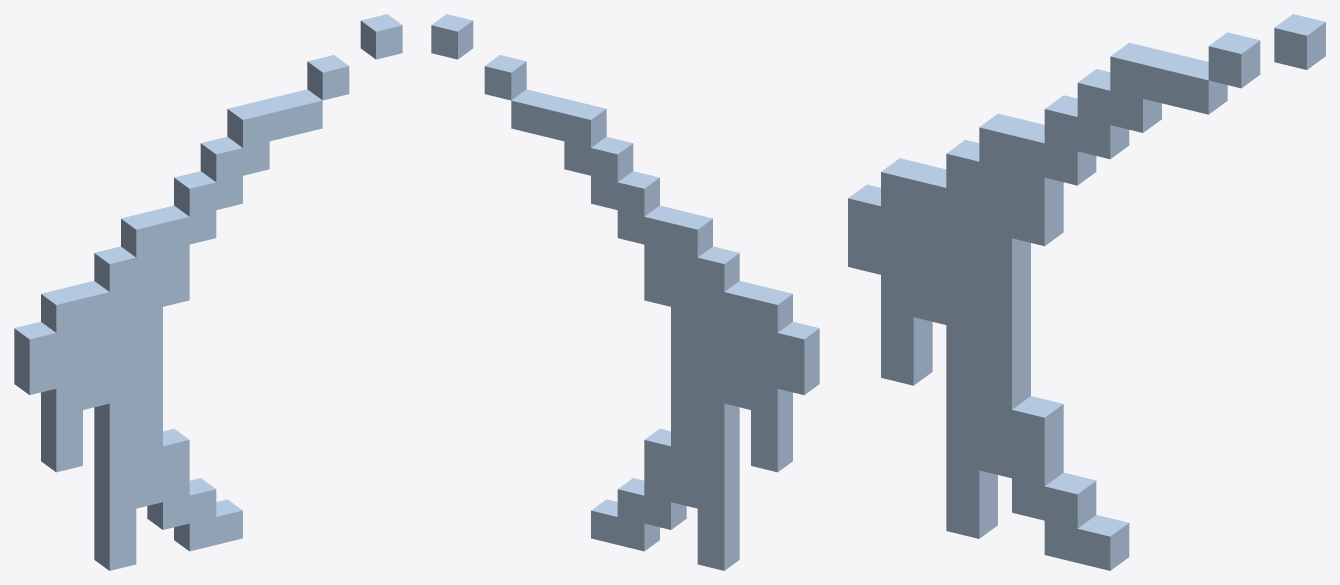
File: Fight_018_3_05_fx.obj
The picture shows the model from 3 angles, left to right: view 1: azimuth 30°, elevation 25°; view 2: azimuth 150°, elevation 25°; view 3: azimuth 330°, elevation 25°; orthographic projection. The views are drawn at different scales.
Size of the model in its own units: 1.4 by 1.7 by 0.1.
Materials: 1 (1 with a texture image).
